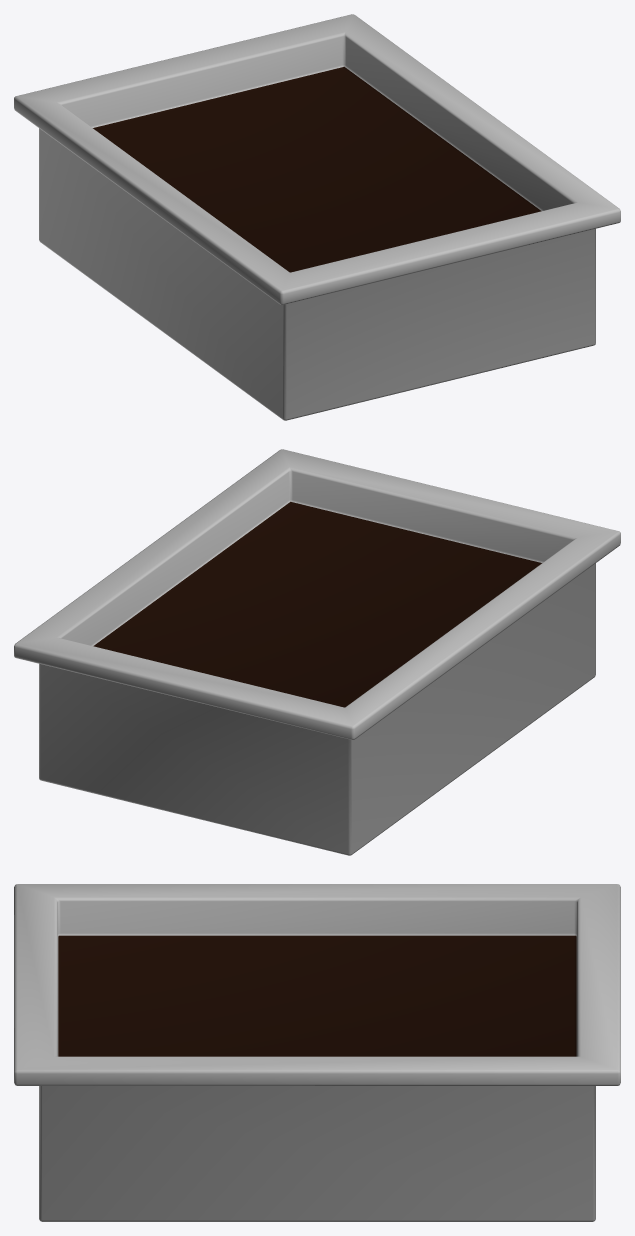
Rendered from корзина для растения.fbx.
The picture shows the model from 3 angles, top to bottom: view 1: azimuth 30°, elevation 25°; view 2: azimuth 150°, elevation 25°; view 3: azimuth 270°, elevation 25°; orthographic projection. The views are drawn at different scales.
Visible parts, largest first — view 1: Cube.174; view 2: Cube.174; view 3: Cube.174.
Part boxes in pixels (bbox=[...]): Cube.174: bbox=[14, 14, 620, 420]; Cube.174: bbox=[14, 449, 620, 855]; Cube.174: bbox=[14, 884, 620, 1221].
Size of the model in its own units: 33.73 by 13.39 by 46.03.
